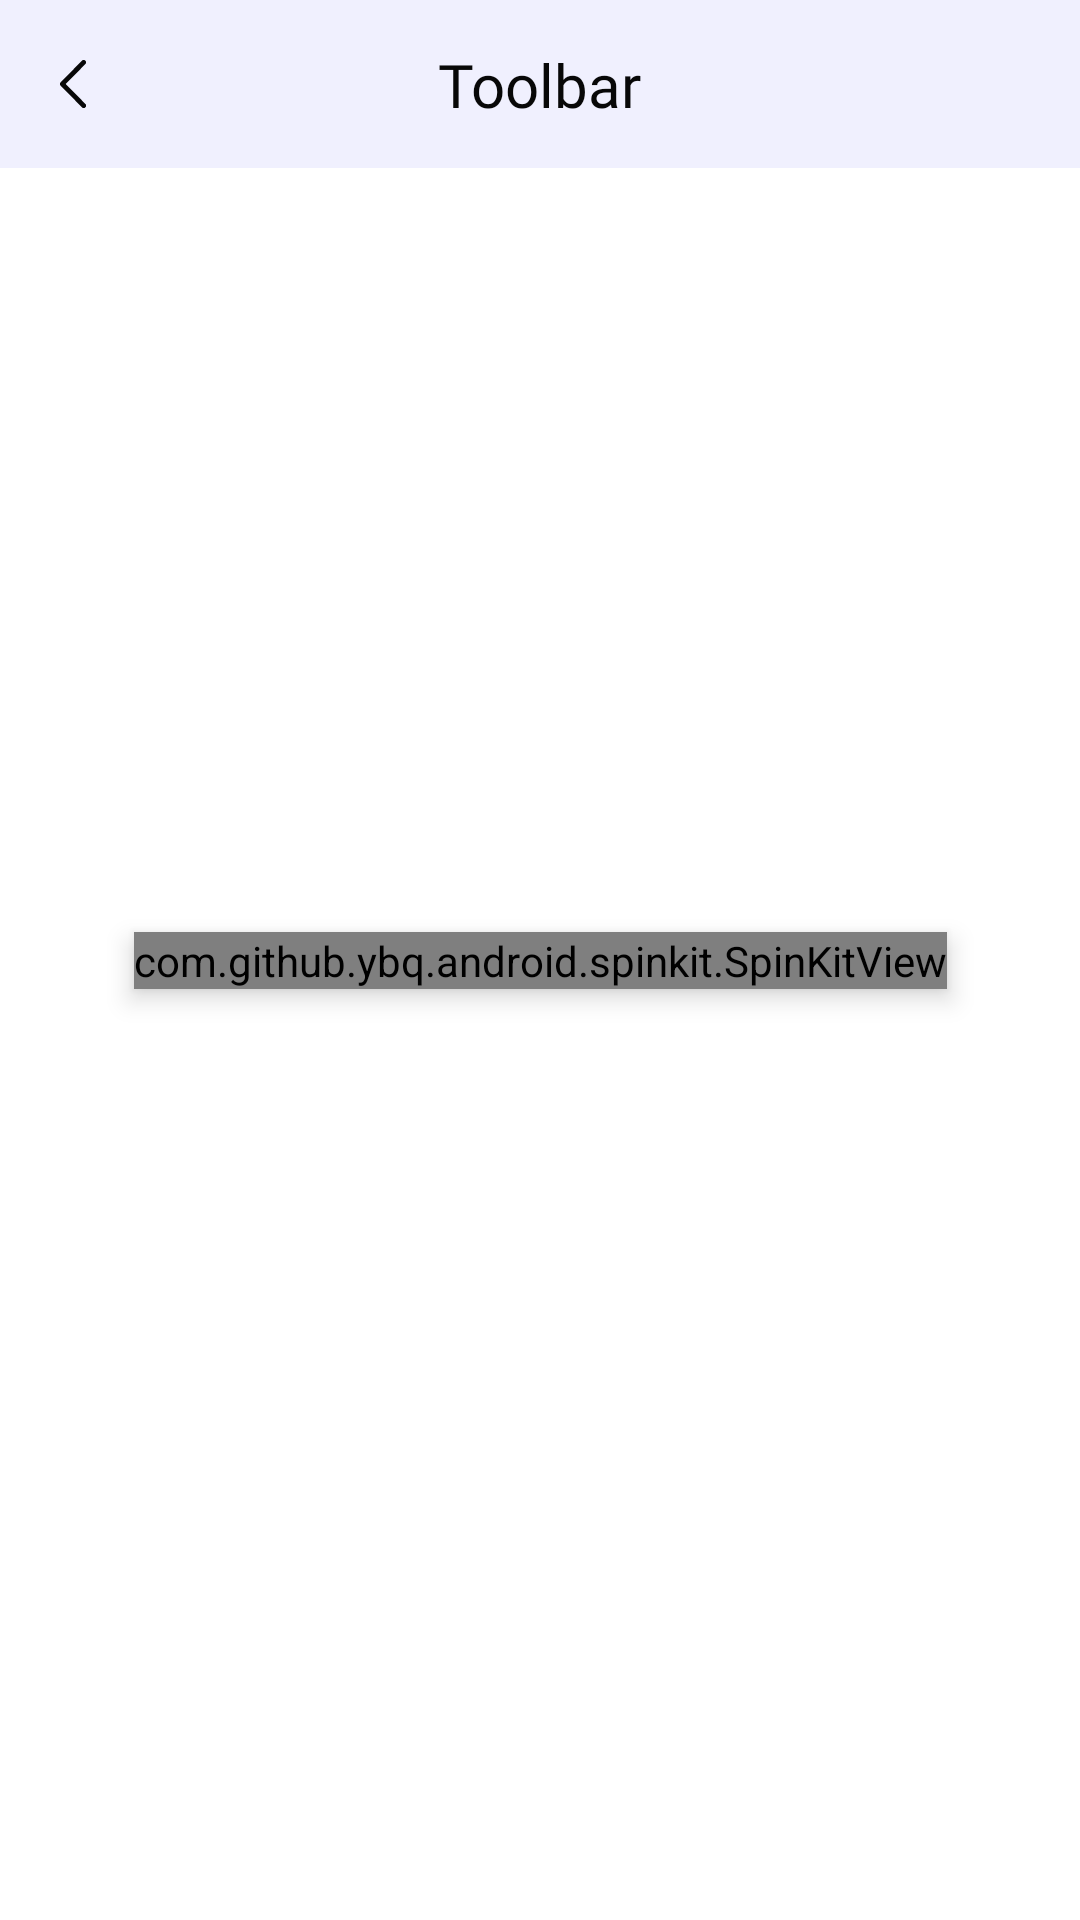

Where to tap for icons on this 1080*1920 app screen, as (x,y):
back: (73,84)
